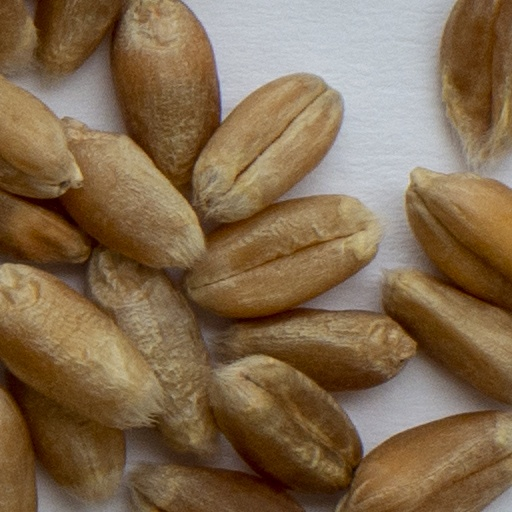Wheat-grain-poly: (83, 248, 216, 461), (0, 263, 168, 431), (215, 354, 362, 497), (0, 367, 128, 506), (125, 463, 310, 511), (0, 383, 40, 511)
